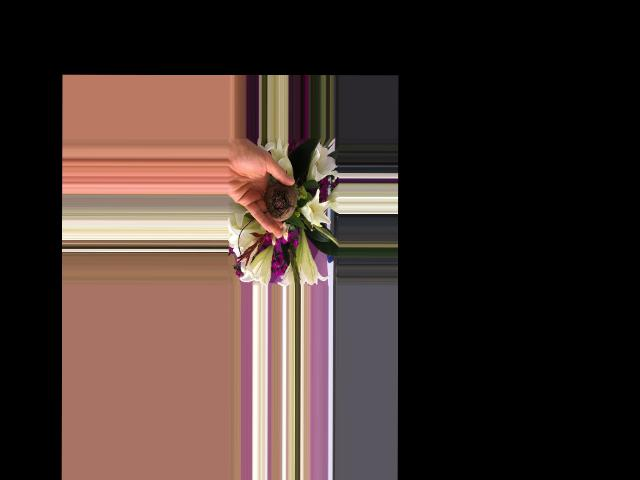beet: (264, 182, 296, 222)
